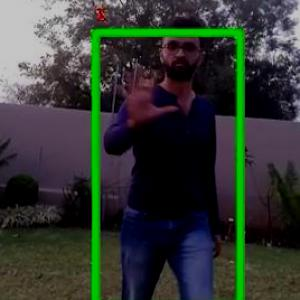follow_hand: (116, 62, 182, 128)
